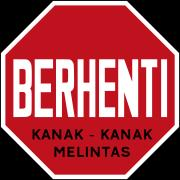Stop: (7, 20, 178, 170)
